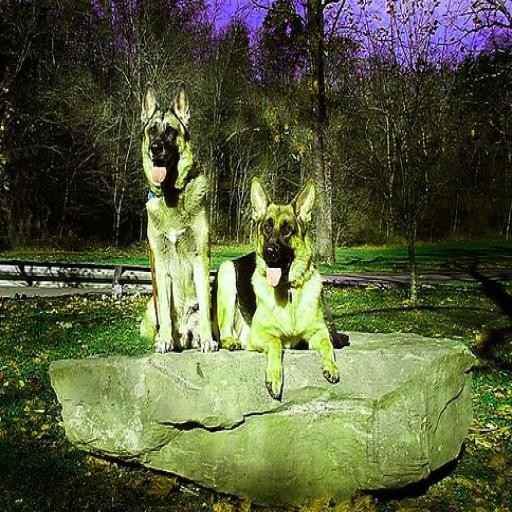dog_face: (251, 174, 315, 269), (140, 83, 191, 177)
